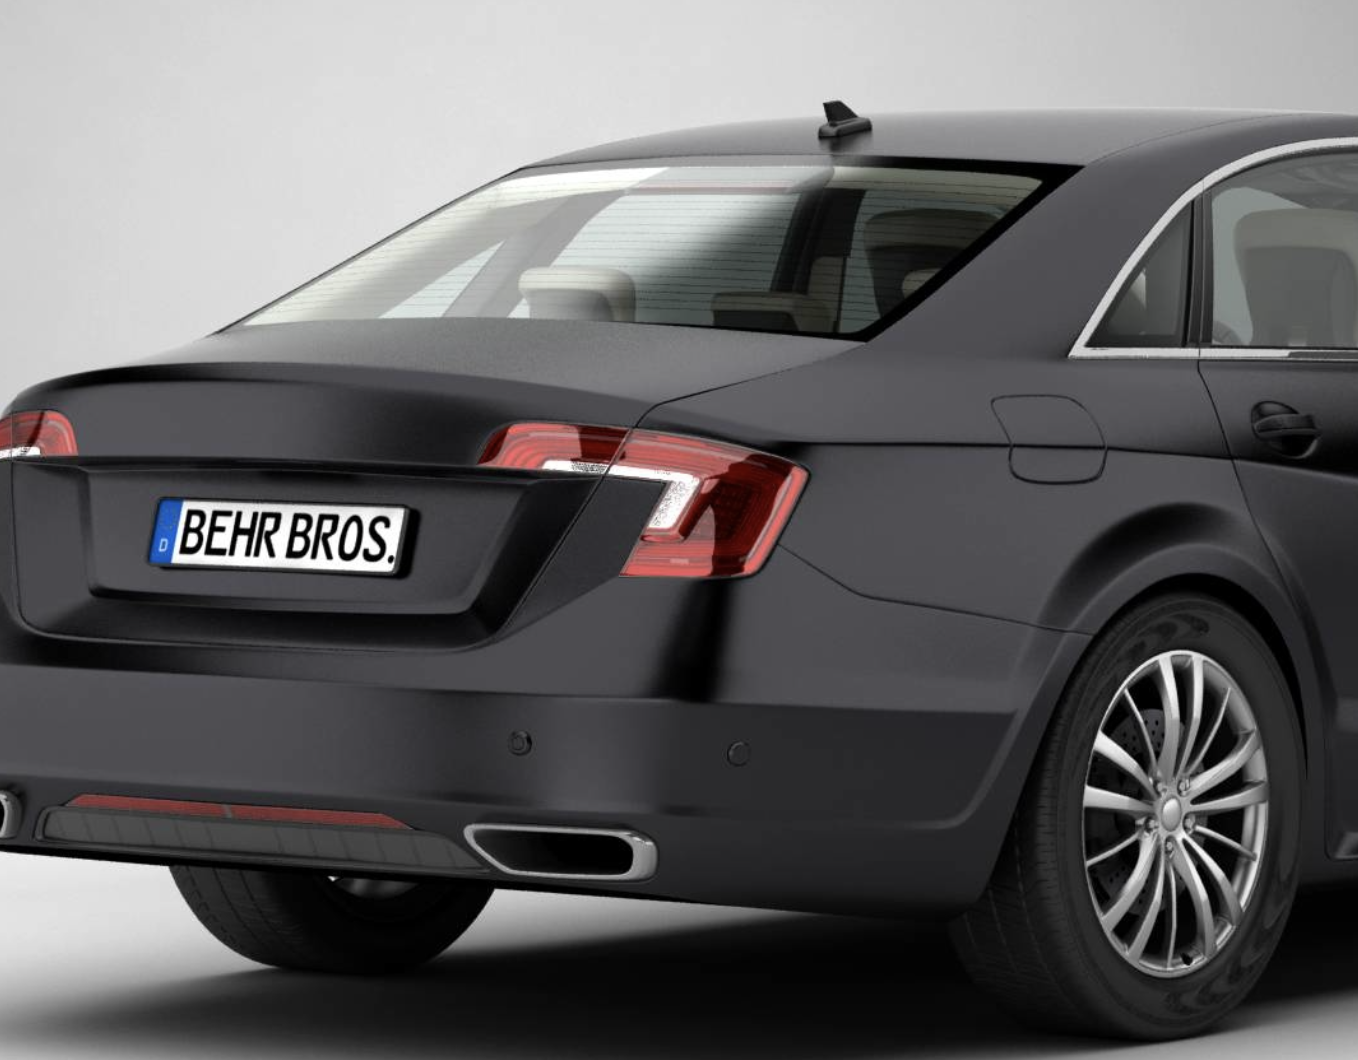hatch: (982, 389, 1117, 491)
